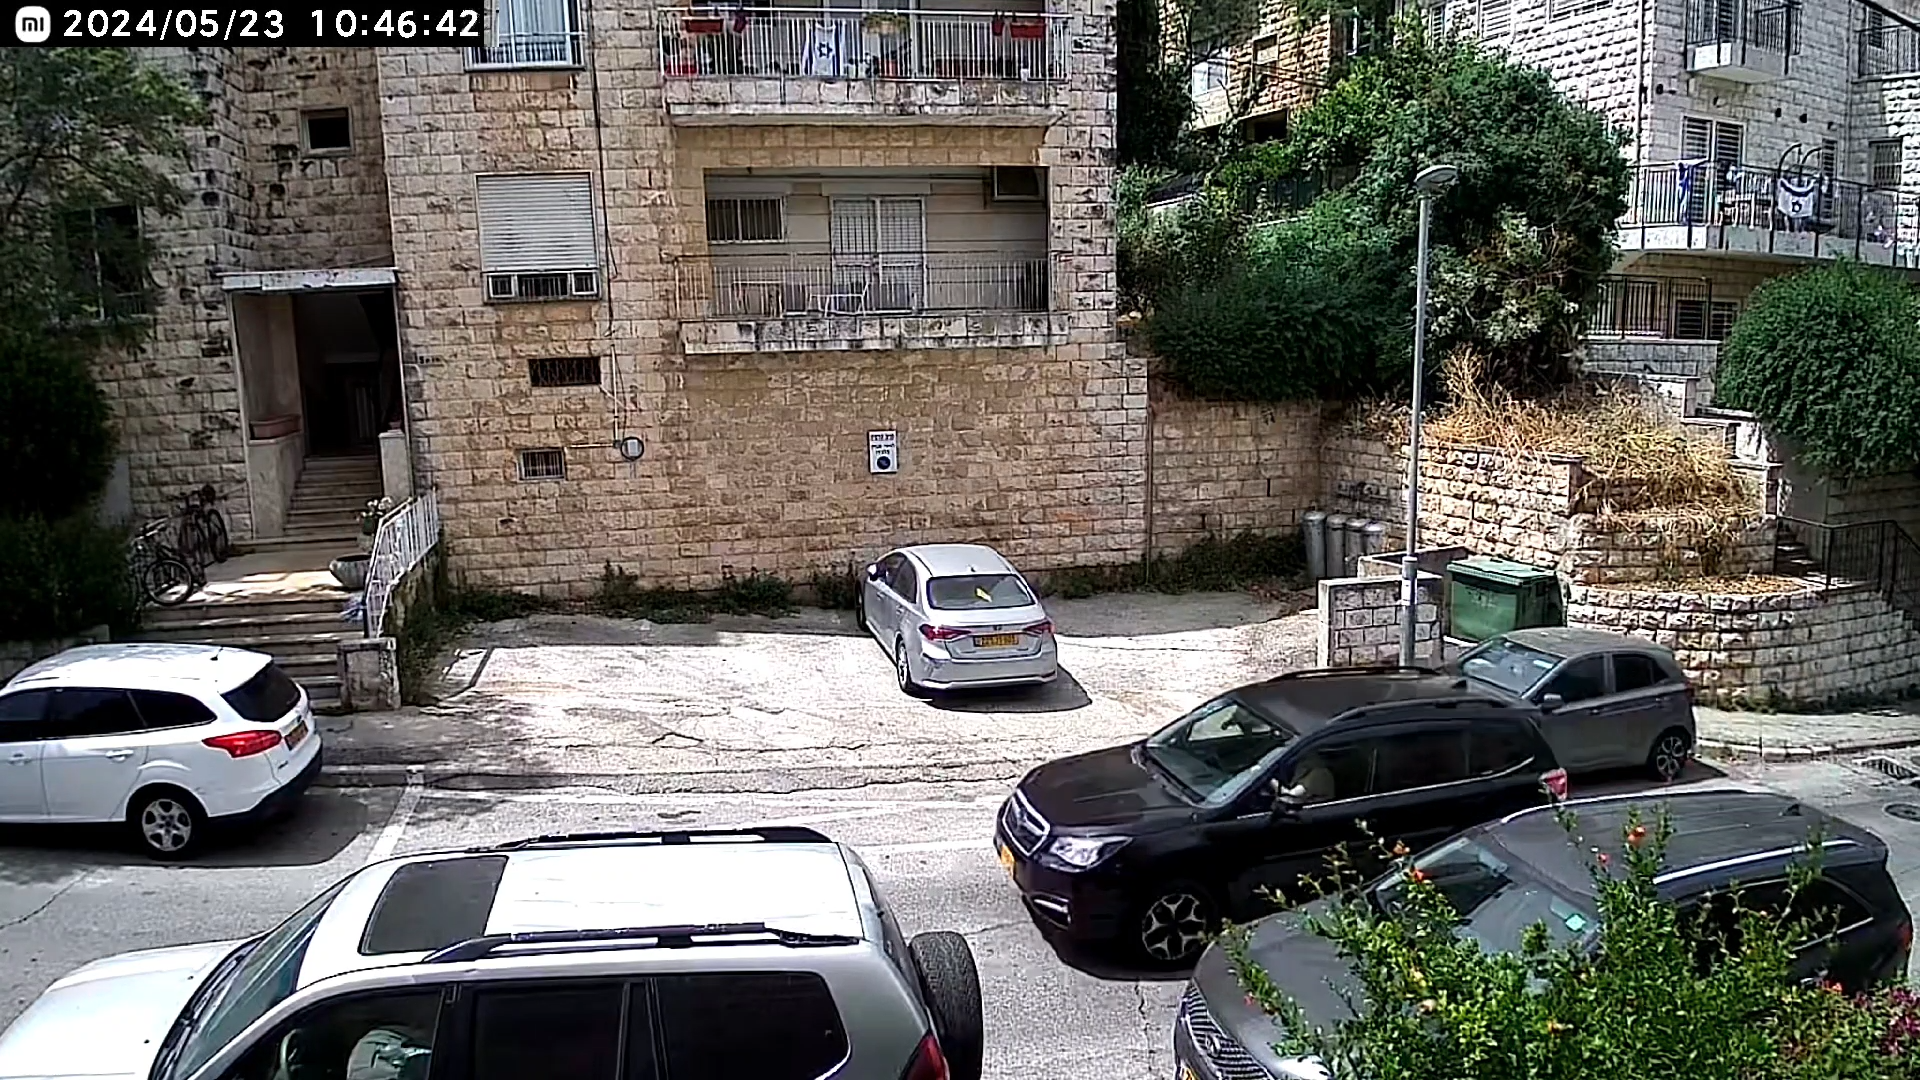moving car: (996, 667, 1569, 924)
